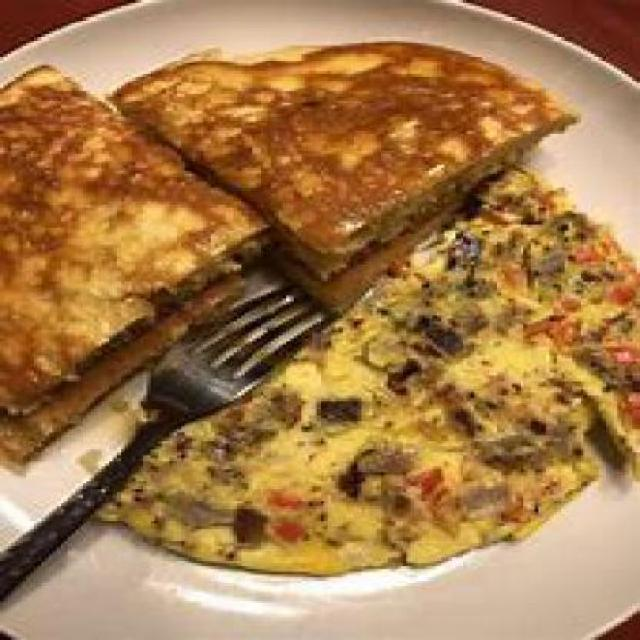omelette: (113, 162, 629, 569)
